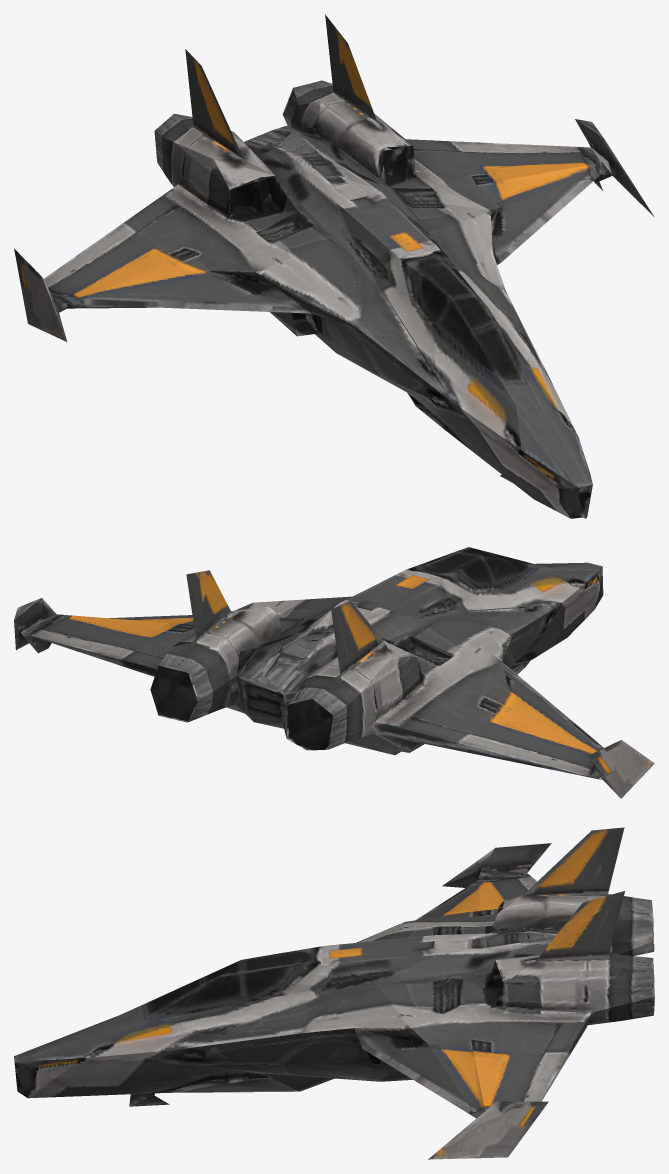
The model's file is hard-500.glb.
3 renders of one model, top to bottom at view 1: azimuth 30°, elevation 25°; view 2: azimuth 150°, elevation 25°; view 3: azimuth 270°, elevation 25°, orthographic. The views are drawn at different scales.
Visible parts, largest first — view 1: Low; view 2: Low; view 3: Low.
Boxes of the visible parts, x1,y1,x2,y2 form: Low: (14, 14, 654, 518); Low: (14, 547, 654, 798); Low: (14, 827, 654, 1159).
Bounding box in the file's own units: 0.962 × 0.4139 × 0.9781.
Materials: 1 (1 with a texture image).
